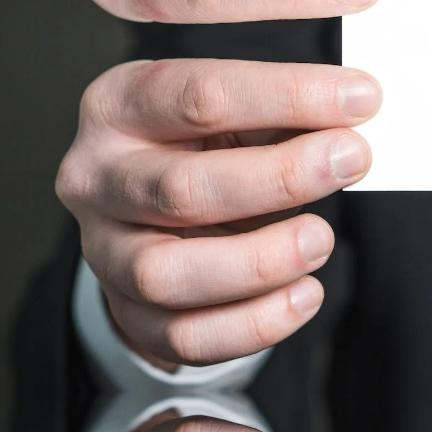Nail: (337, 75, 383, 117), (332, 133, 372, 178), (298, 219, 334, 260), (290, 276, 324, 313), (341, 0, 376, 5)
